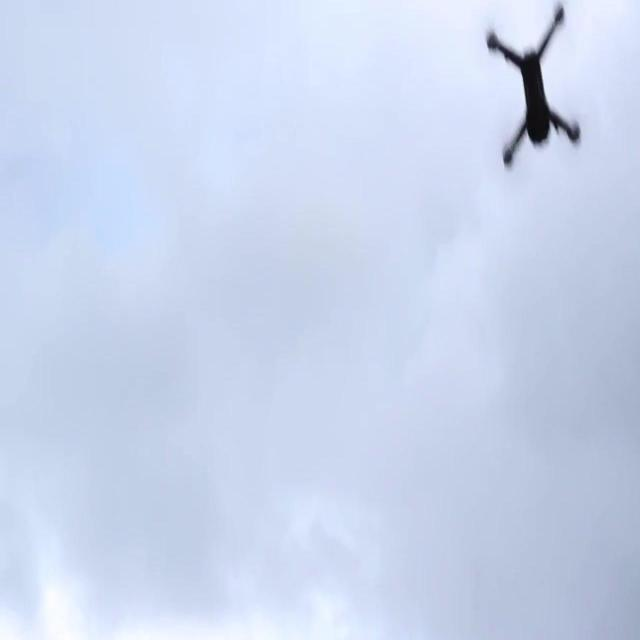drone: (484, 3, 583, 169)
